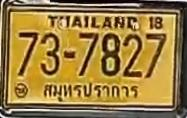2: (122, 34, 141, 76)
3: (40, 33, 59, 74)
7: (145, 32, 166, 77), (18, 31, 38, 75), (78, 32, 98, 75)
8: (100, 32, 119, 75)
SPK: (41, 79, 143, 103)
